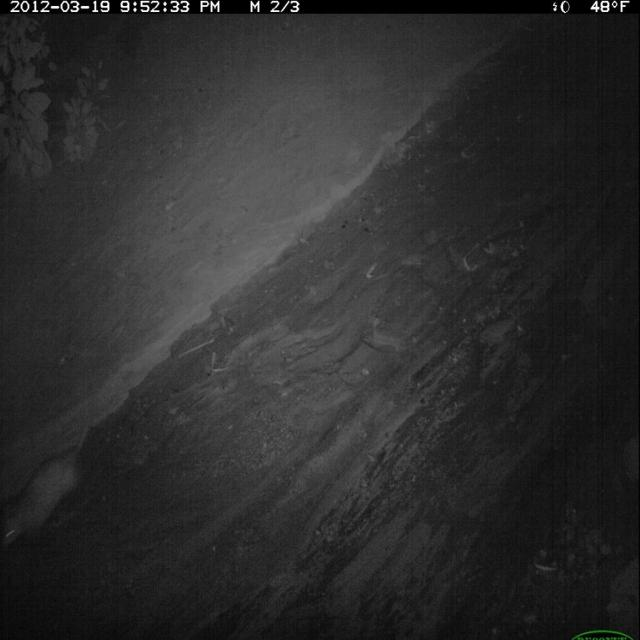opossum: (2, 423, 91, 557)
